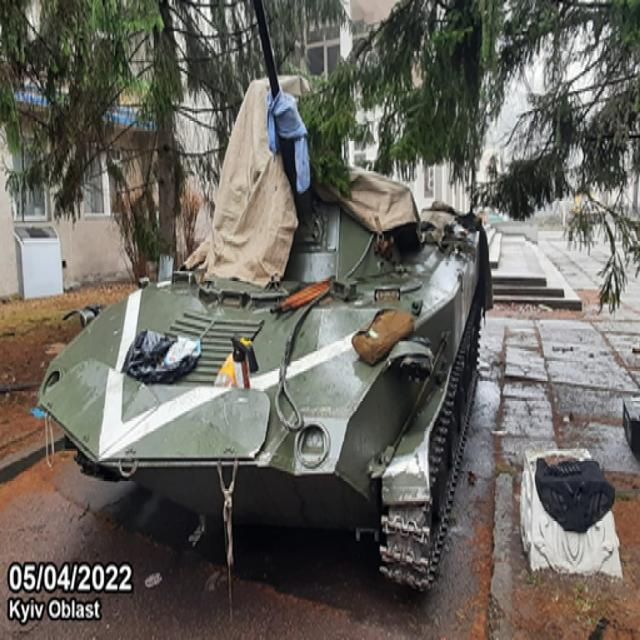APC-IFV: (38, 2, 492, 596)
